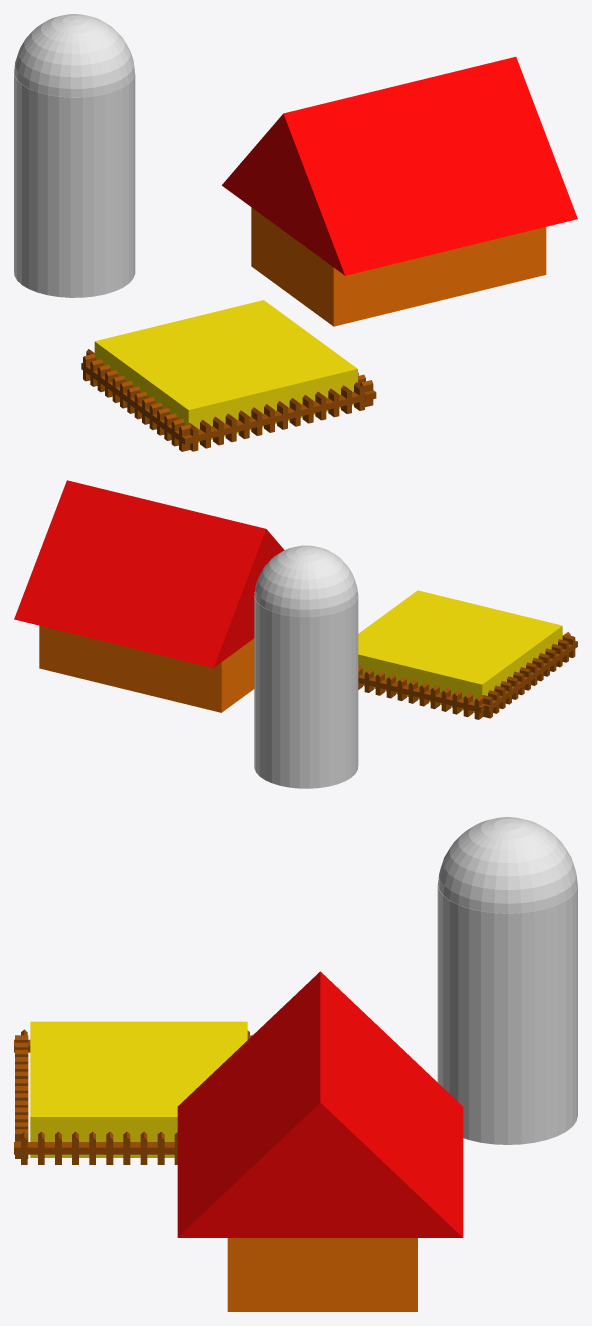
Rendered from Farmer.fbx.
3 views of the same model, one above another, from view 1: azimuth 30°, elevation 25°; view 2: azimuth 150°, elevation 25°; view 3: azimuth 270°, elevation 25° (orthographic). The views are drawn at different scales.
Visible parts, largest first — view 1: Cube.002, Cylinder, Cube.009, Cube.001, Cube.007, Cube.008, Cube.004; view 2: Cube.008, Cylinder, Cube.009, Cube.001, Cube.003, Cube.004; view 3: Cylinder, Cube.002, Cube.008, Cube.009, Cube.001, Cube.006, Cube.007.
Boxes of the visible parts, x1,y1,x2,y2 form: Cube.002: [283, 56, 577, 275]; Cylinder: [14, 14, 135, 297]; Cube.009: [94, 300, 357, 442]; Cube.001: [251, 207, 546, 326]; Cube.007: [188, 382, 365, 451]; Cube.008: [222, 114, 283, 229]; Cube.004: [81, 353, 195, 451]; Cube.008: [14, 480, 266, 667]; Cylinder: [254, 545, 358, 788]; Cube.009: [358, 590, 562, 712]; Cube.001: [39, 625, 254, 712]; Cube.003: [358, 666, 484, 719]; Cube.004: [482, 634, 577, 718]; Cylinder: [437, 817, 577, 1144]; Cube.002: [177, 972, 320, 1237]; Cube.008: [320, 971, 463, 1237]; Cube.009: [30, 1021, 247, 1157]; Cube.001: [227, 1238, 417, 1311]; Cube.006: [14, 1131, 177, 1164]; Cube.007: [15, 1035, 28, 1158].
Bounding box in the file's own units: 472 × 246 × 431.
